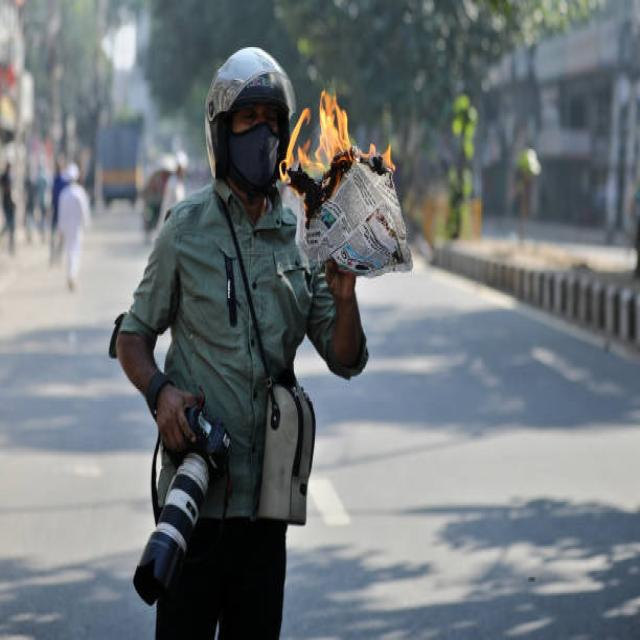fire: (313, 87, 358, 204), (279, 106, 312, 222)
